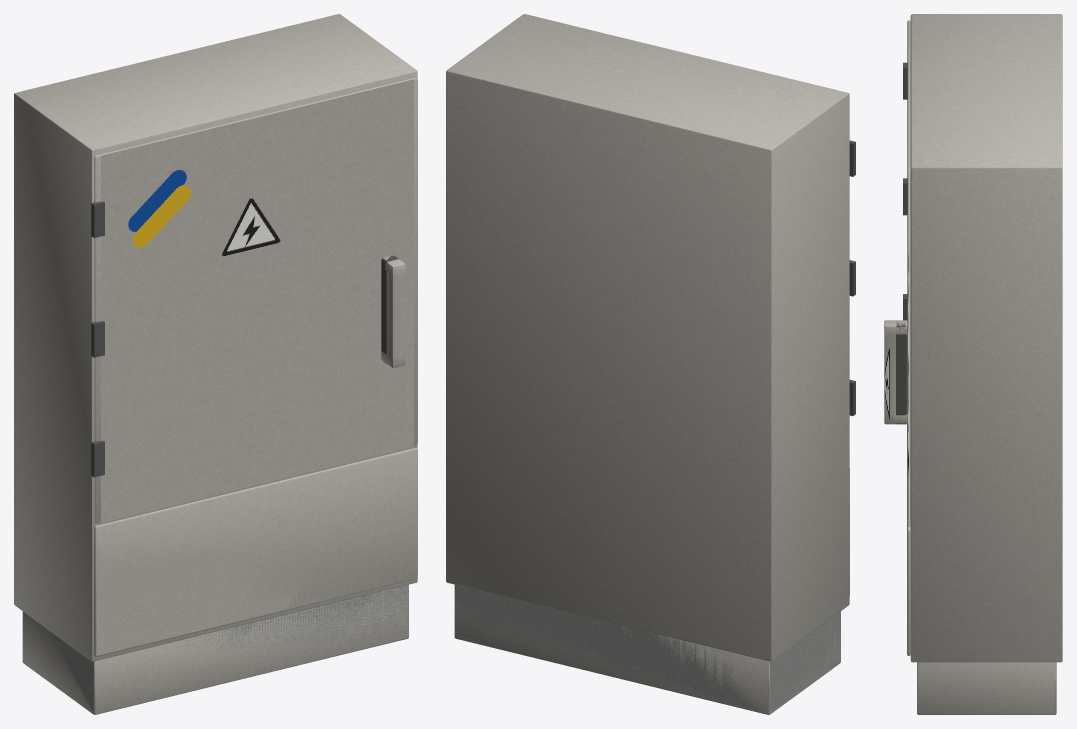
The model's file is SM_ElectricalBox.fbx.
The picture shows the model from 3 angles, left to right: view 1: azimuth 30°, elevation 25°; view 2: azimuth 150°, elevation 25°; view 3: azimuth 270°, elevation 25°; orthographic projection. The views are drawn at different scales.
Parts seen in each view (by area): view 1: SM_ElectricalBox; view 2: SM_ElectricalBox; view 3: SM_ElectricalBox.
Boxes of the visible parts, box(x1,y1,x2,y2) form: SM_ElectricalBox: box(14, 14, 417, 714); SM_ElectricalBox: box(446, 14, 855, 714); SM_ElectricalBox: box(884, 14, 1062, 714).
Size of the model in its own units: 60.3 by 100 by 29.37.
4 materials, 3 textured.
